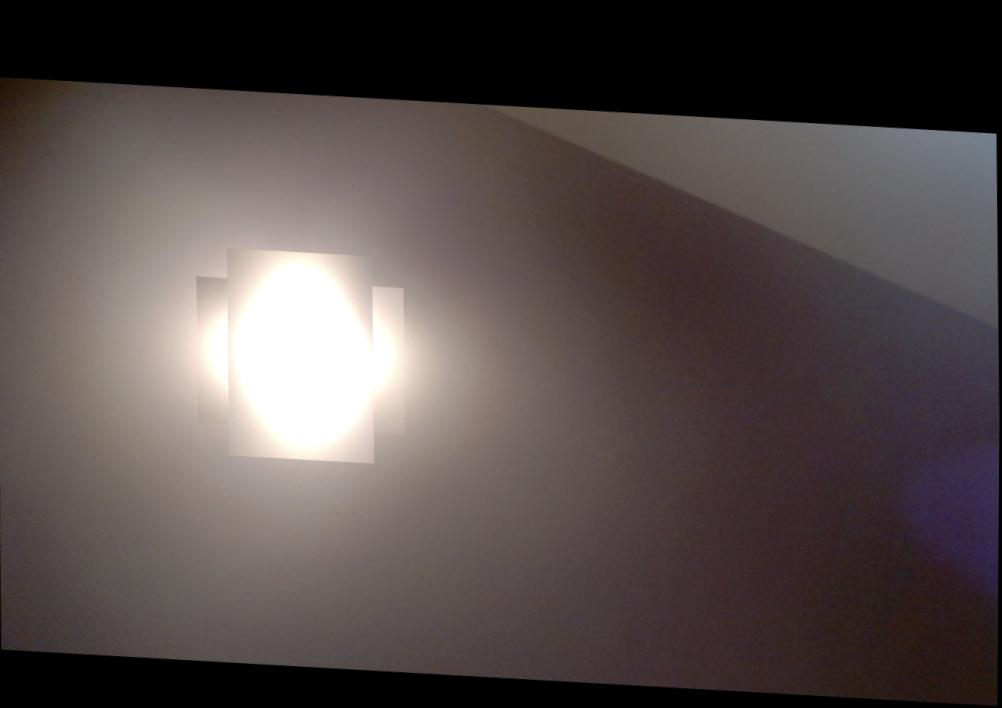TubeLight: (210, 254, 391, 444)
